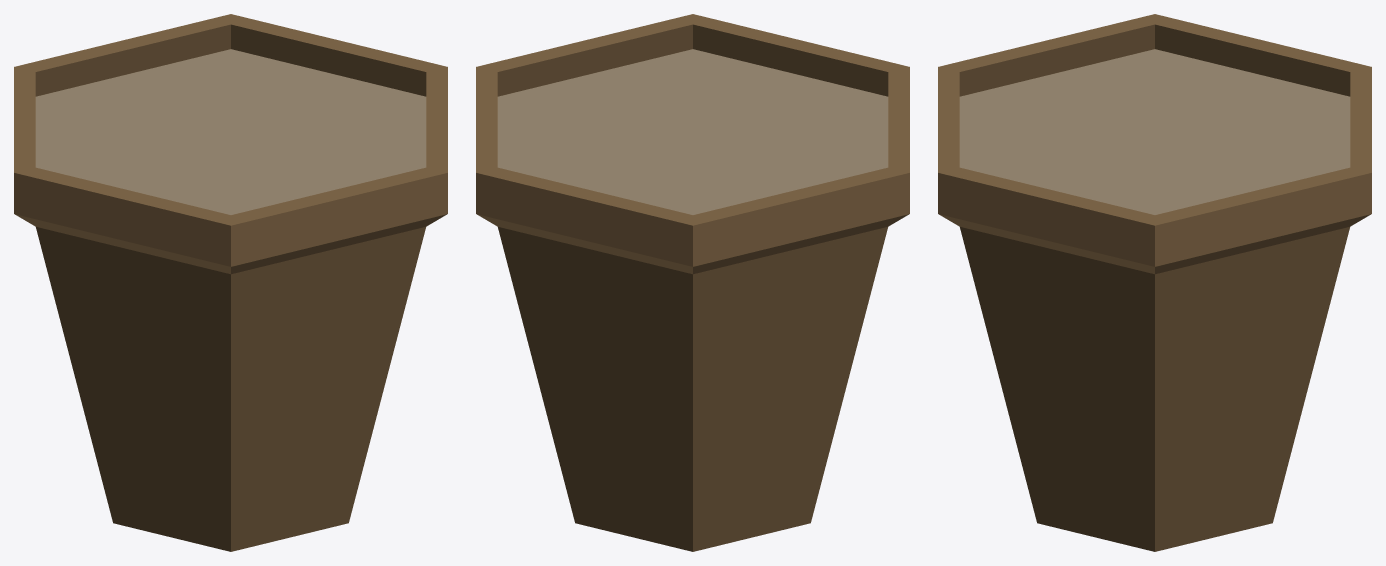
Rendered from plant pot.fbx.
3 renders of one model, left to right at view 1: azimuth 30°, elevation 25°; view 2: azimuth 150°, elevation 25°; view 3: azimuth 270°, elevation 25°, orthographic.
Visible parts, largest first — view 1: pot; view 2: pot; view 3: pot.
Boxes of the visible parts, left/top/right/bottom form: pot: left=14, top=14, right=447, bottom=551; pot: left=476, top=14, right=909, bottom=551; pot: left=938, top=14, right=1371, bottom=551.
Size of the model in its own units: 0.5565 by 0.4592 by 0.4819.
